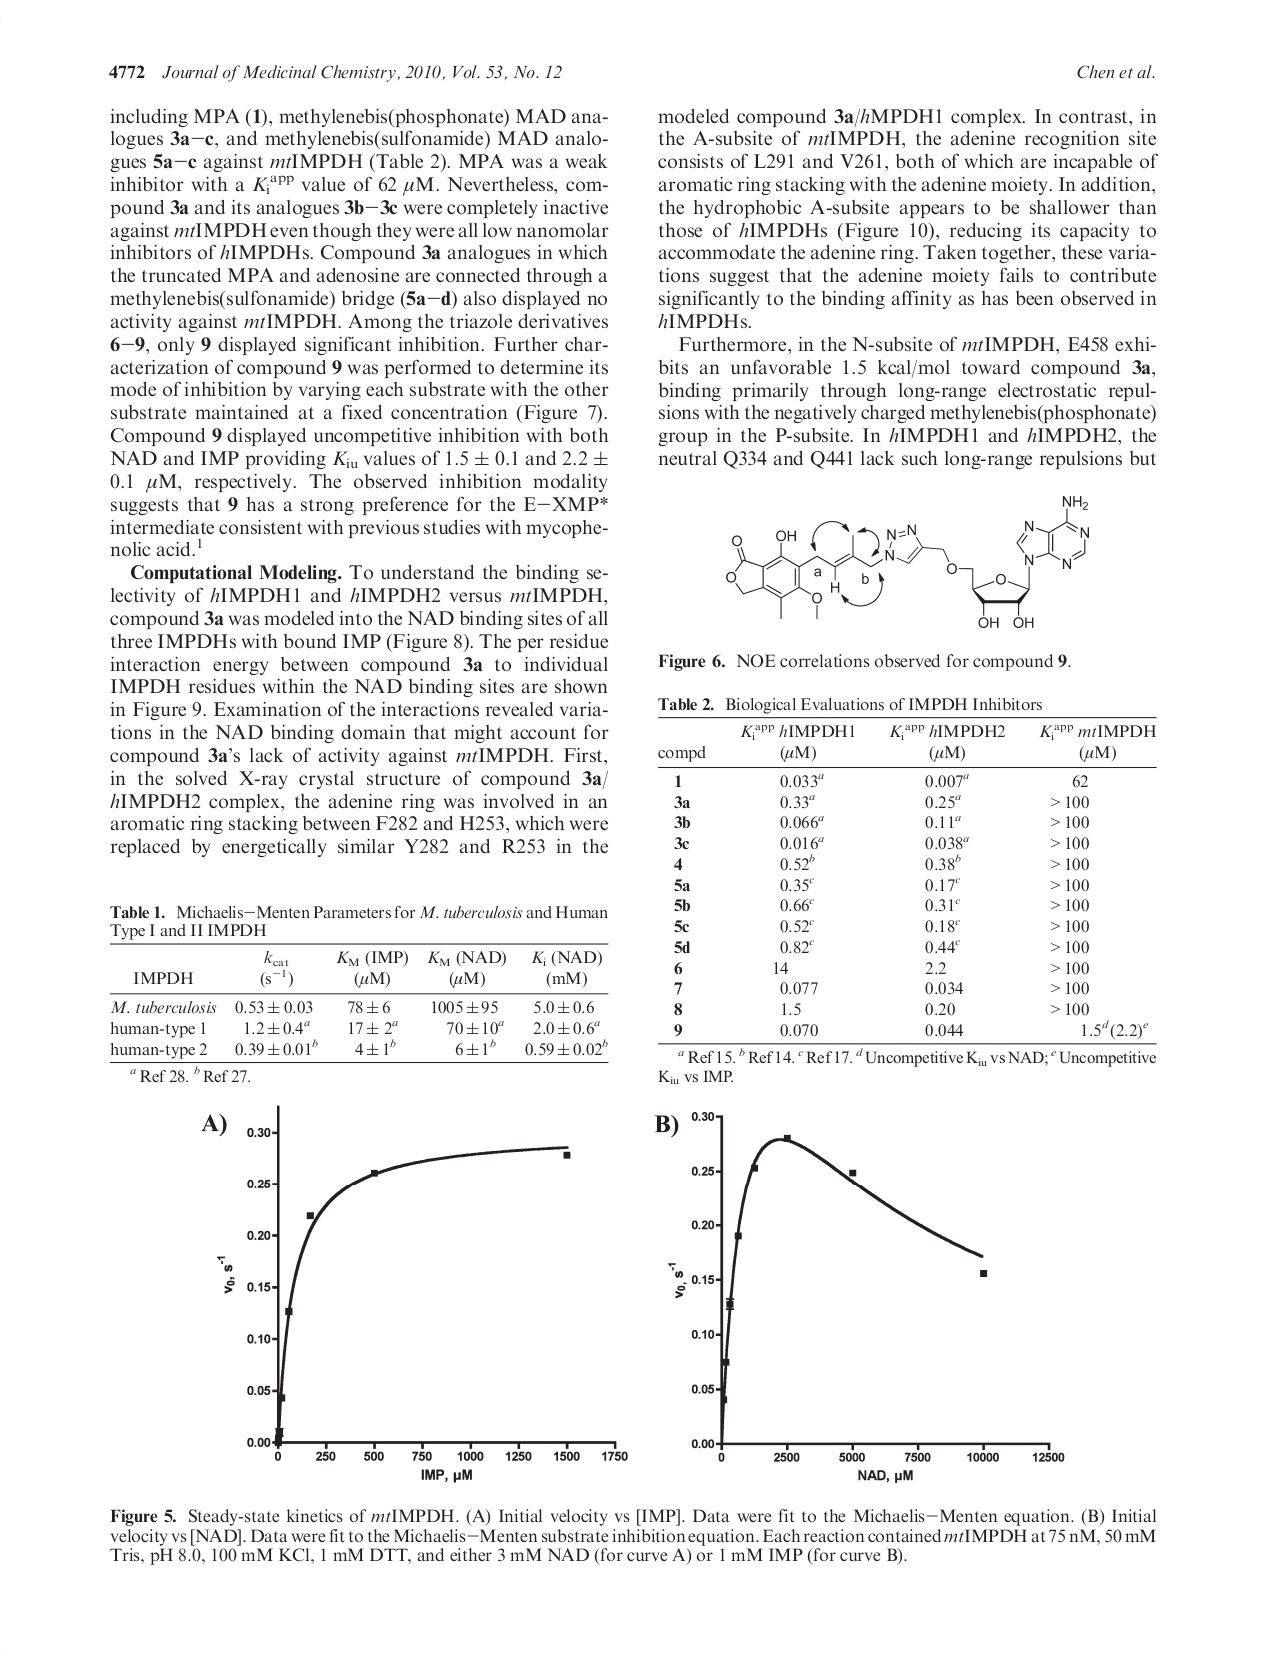exist_molecular: (725, 492, 1094, 626)
